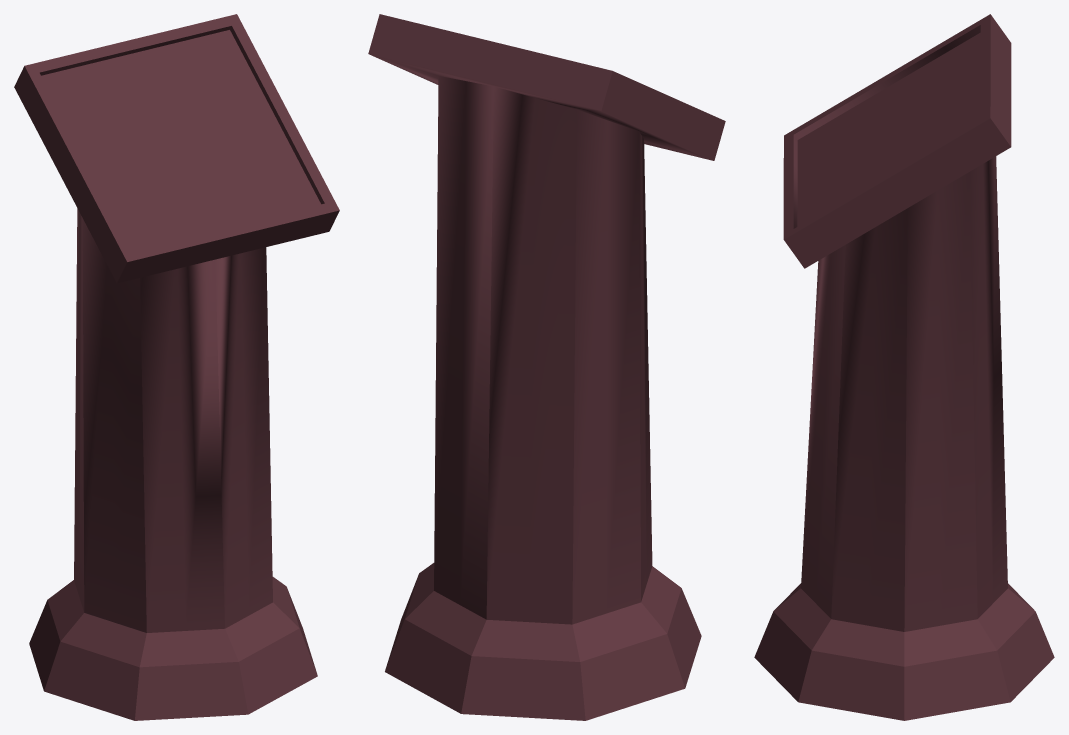
The model's file is pupitre.fbx.
The picture shows the model from 3 angles, left to right: view 1: azimuth 30°, elevation 25°; view 2: azimuth 150°, elevation 25°; view 3: azimuth 270°, elevation 25°; orthographic projection. The views are drawn at different scales.
Parts seen in each view (by area): view 1: pillar-proto-doric; view 2: pillar-proto-doric; view 3: pillar-proto-doric.
Part boxes in pixels (x1,y1,x2,y2): pillar-proto-doric: (14,14,339,720); pillar-proto-doric: (368,14,725,720); pillar-proto-doric: (754,14,1054,720).
Size of the model in its own units: 300 by 652 by 300.
